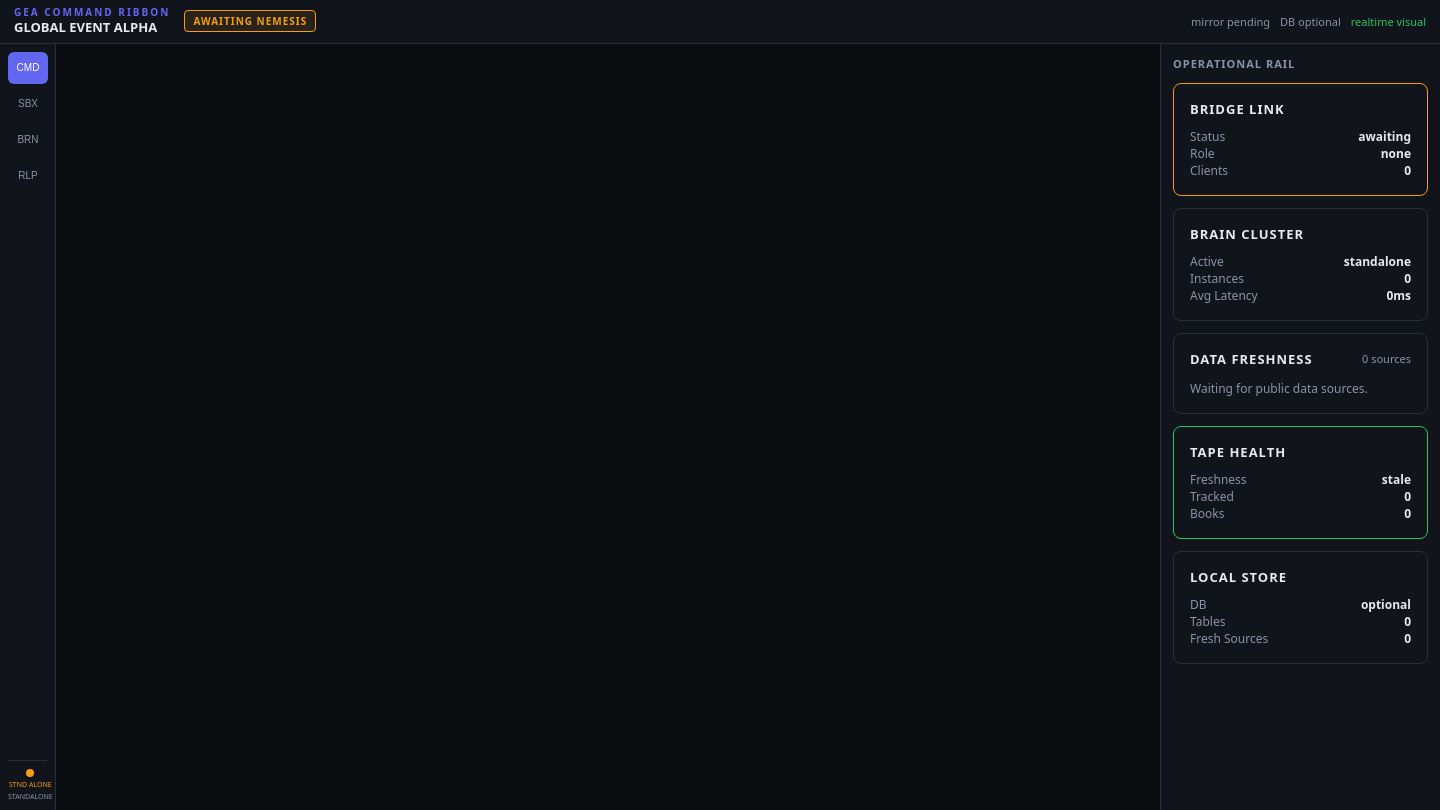
Test case: Global Event Alpha shell › keeps the operational rail visible while navigating tabs
Step 1. Click the button titled "Replay Lab" → (28, 176), box [8,160,48,192]
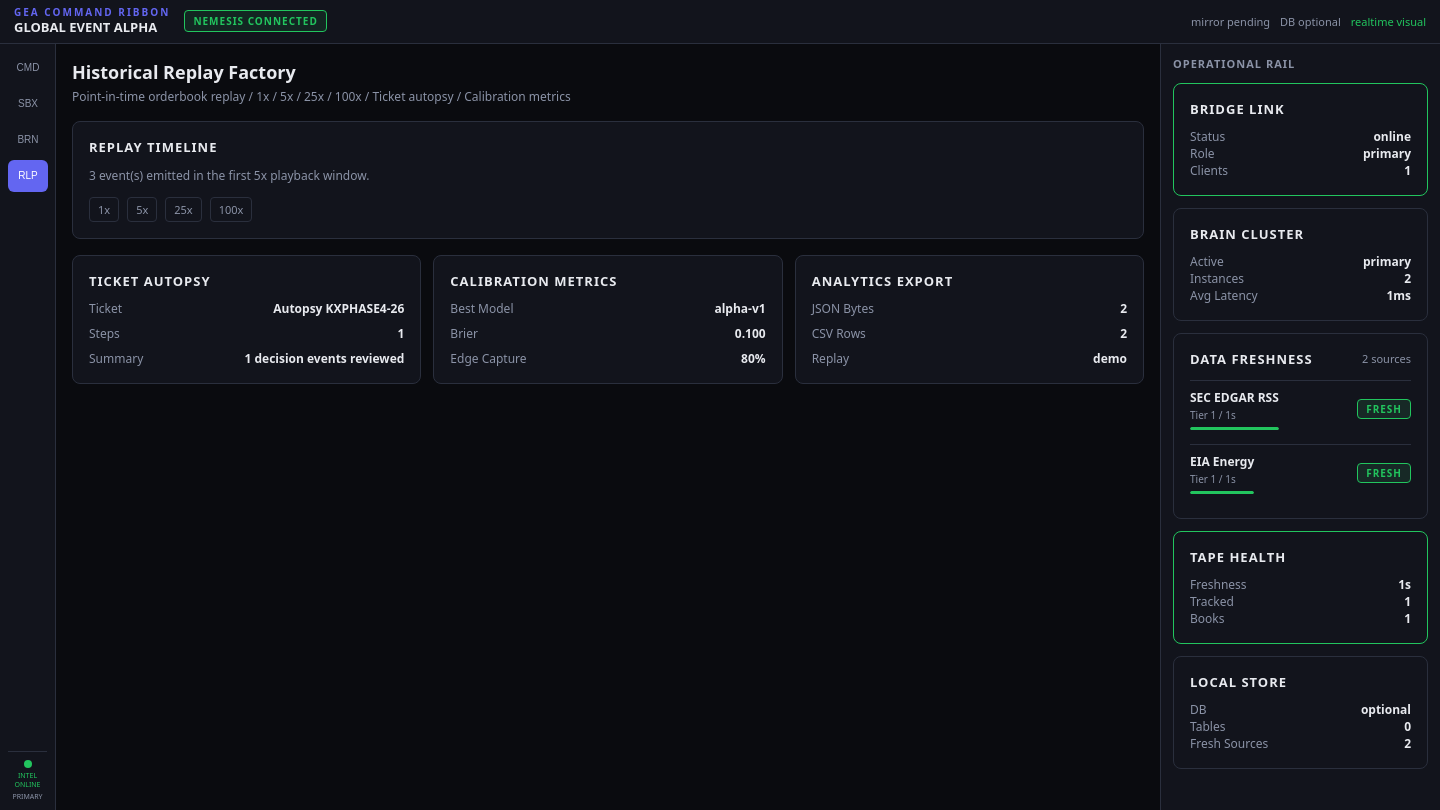
Expected: the text "OPERATIONAL RAIL" is shown, [1173,56,1295,71]
Expected: the heading "Historical Replay Factory" is shown, [72,60,296,84]
